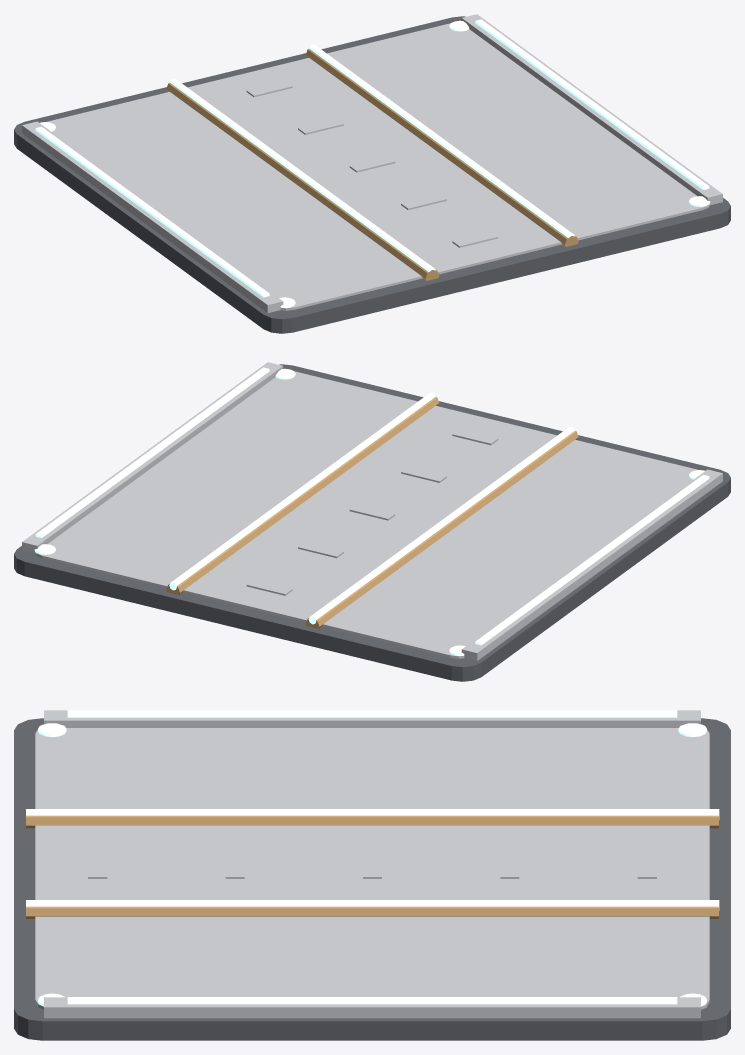
Rendered from hover-transit-and-antigrav-fleet-repulsor-road-plate-a112fe3b__17099.glb.
The picture shows the model from 3 angles, top to bottom: view 1: azimuth 30°, elevation 25°; view 2: azimuth 150°, elevation 25°; view 3: azimuth 270°, elevation 25°; orthographic projection. The views are drawn at different scales.
Parts seen in each view (by area): view 1: repulsor-road-plate; view 2: repulsor-road-plate; view 3: repulsor-road-plate.
Part boxes in pixels (box(x1,y1,x2,y2)): repulsor-road-plate: box(14, 14, 730, 333); repulsor-road-plate: box(14, 362, 730, 681); repulsor-road-plate: box(14, 710, 730, 1040).
Size of the model in its own units: 6 by 0.3202 by 6.
